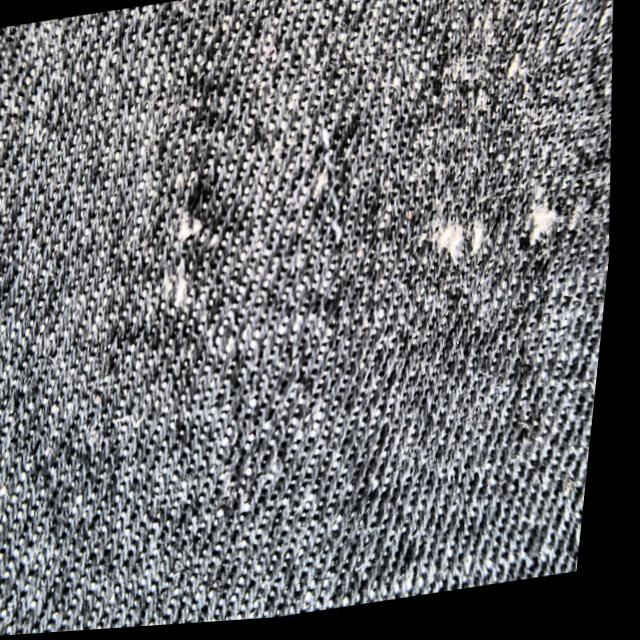Hole: (138, 194, 252, 356), (410, 214, 504, 297), (518, 193, 577, 274), (602, 126, 621, 213)
